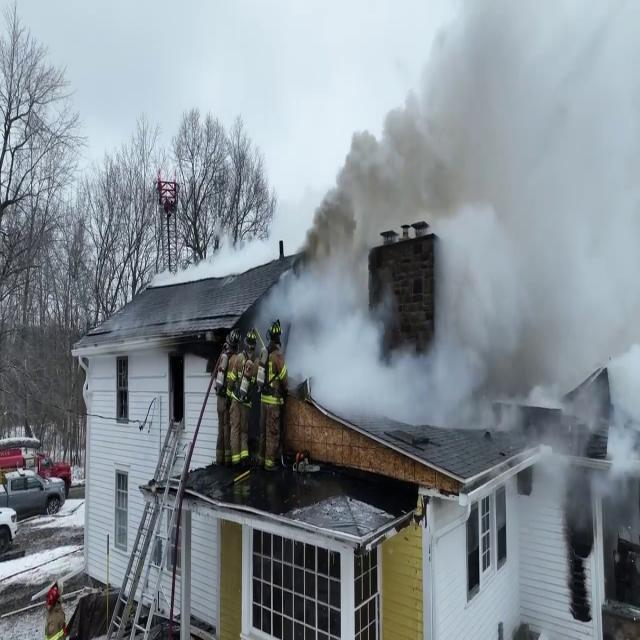Smoke: (251, 1, 640, 432)
